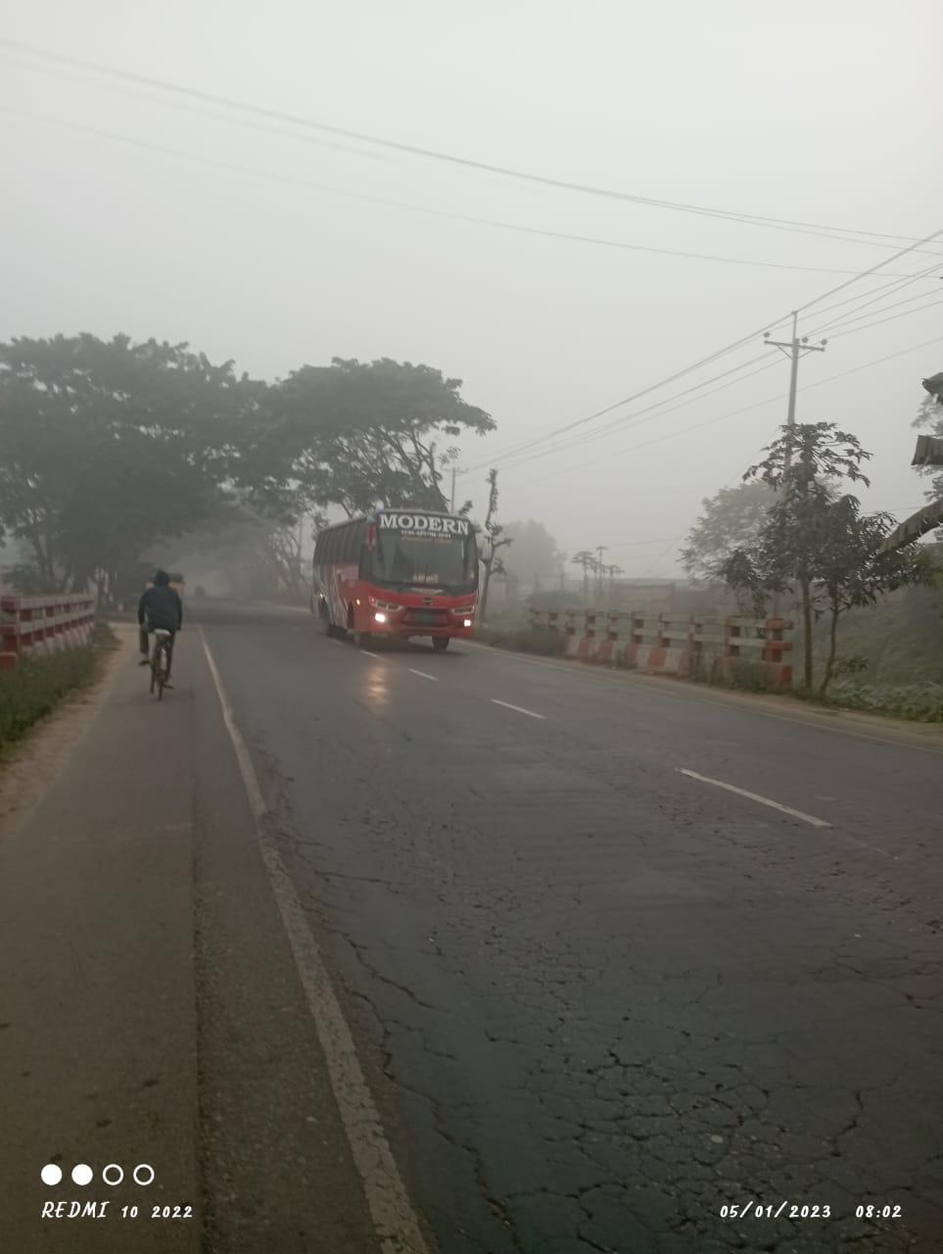Bus: (306, 503, 491, 657)
